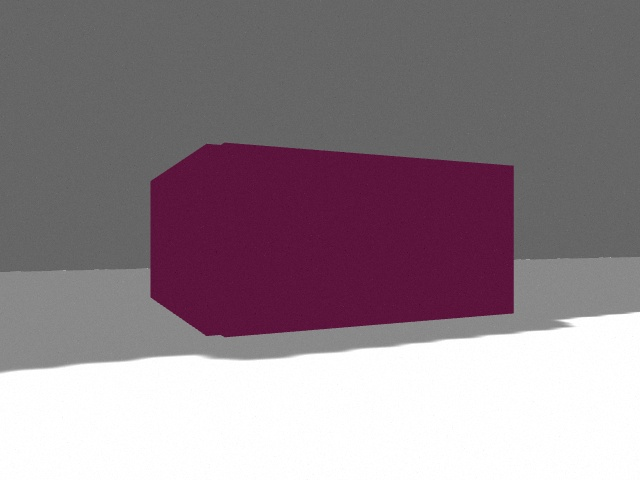red_drop_zone: (150, 143, 514, 337)
